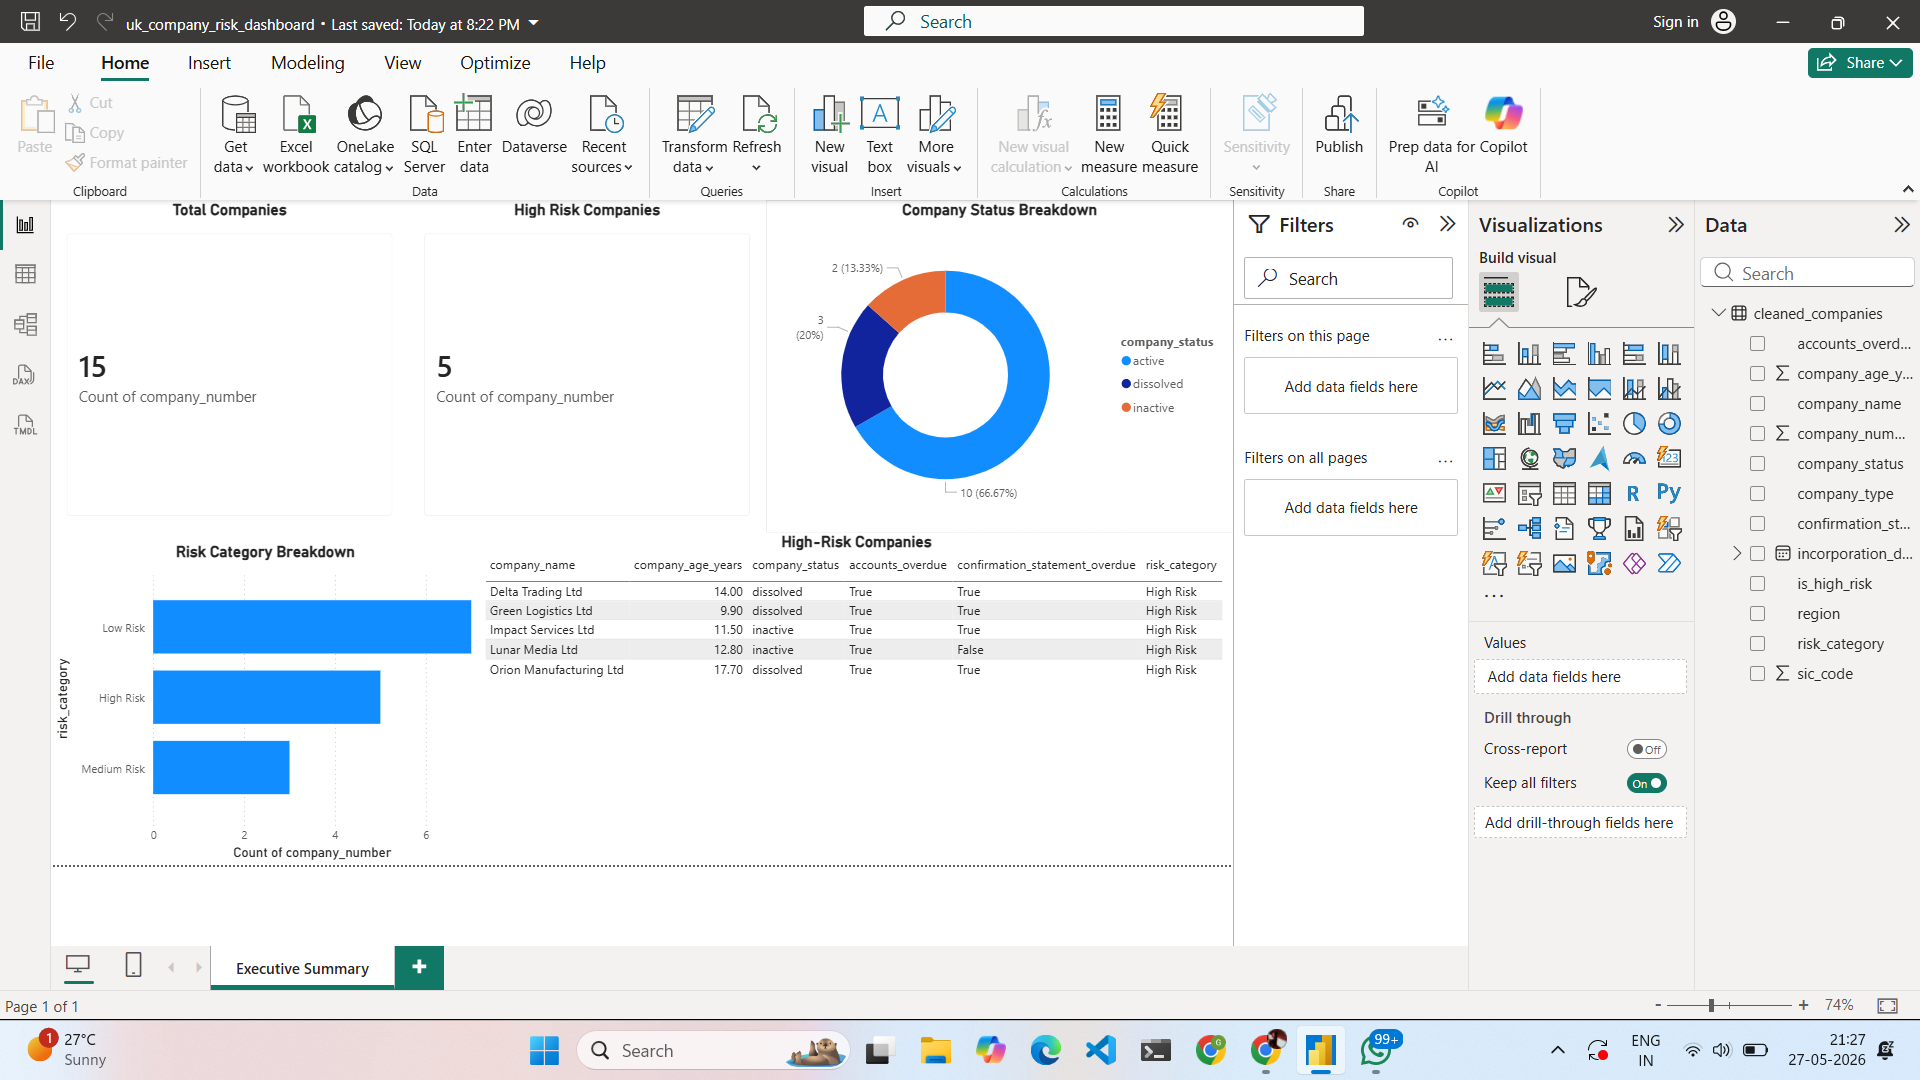

This screenshot's page, from the dashboard's own definition file:
{"tool":"powerbi","page":{"name":"Executive Summary","canvas":[1280,720],"ordinal":0},"visuals":[{"type":"cardVisual","title":"Total Companies","fields":{"Data":["CountNonNull(cleaned_companies.company_number)"]},"box":[0,0,387.1,360],"z":3000},{"type":"donutChart","title":"Company Status Breakdown","fields":{"Category":["cleaned_companies.company_status"],"Y":["CountNonNull(cleaned_companies.company_number)"]},"box":[774.1,0,506.2,360],"z":3001},{"type":"clusteredBarChart","title":"Risk Category Breakdown","fields":{"Category":["cleaned_companies.risk_category"],"Y":["CountNonNull(cleaned_companies.company_number)"]},"box":[0,370.8,464.2,349.2],"z":3002},{"type":"tableEx","title":"High-Risk Companies","fields":{"Values":["cleaned_companies.company_name","cleaned_companies.company_age_years","cleaned_companies.company_status","cleaned_companies.accounts_overdue","cleaned_companies.confirmation_statement_overdue","cleaned_companies.risk_category"]},"box":[464.2,360,816.1,360],"z":3003},{"type":"cardVisual","title":"High Risk Companies","fields":{"Data":["CountNonNull(cleaned_companies.company_number)"]},"box":[387.1,0,387.1,360],"z":3004}]}

Visuals, with their boxes on the page's 1280x720 design canvas (x1, y1, x2, y2). These are canvas units, not pixel positions in the 1920x1080 screenshot, which may show the page scaled, cropped or inside an application window:
"Total Companies" cardVisual: bbox=(0, 0, 387, 360)
"Company Status Breakdown" donutChart: bbox=(774, 0, 1280, 360)
"Risk Category Breakdown" clusteredBarChart: bbox=(0, 371, 464, 720)
"High-Risk Companies" tableEx: bbox=(464, 360, 1280, 720)
"High Risk Companies" cardVisual: bbox=(387, 0, 774, 360)
